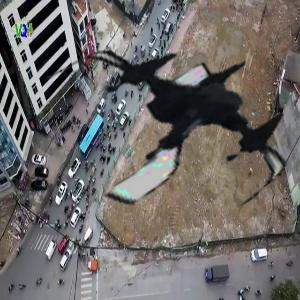drone: (51, 11, 287, 247)
